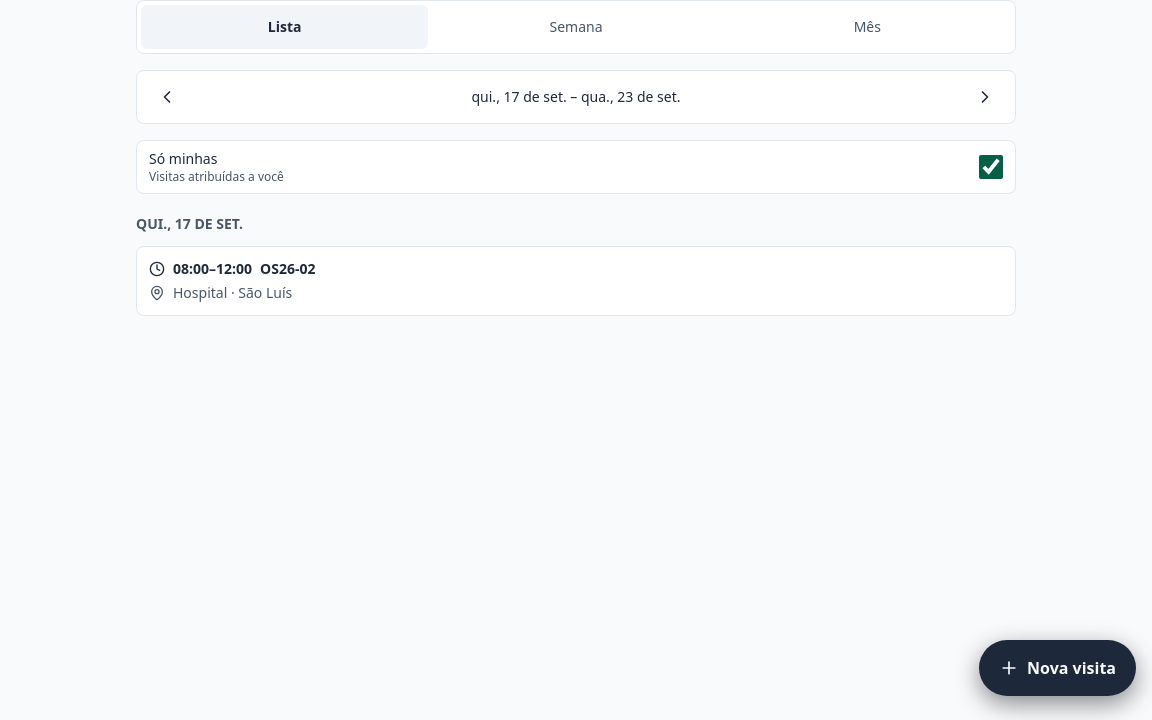
Scenario: Modo Semana › Cancelar no diálogo de confirmação não grava e mantém a visita armada
Click the button "Semana" at {"x": 576, "y": 27}, box [432,5,720,49]
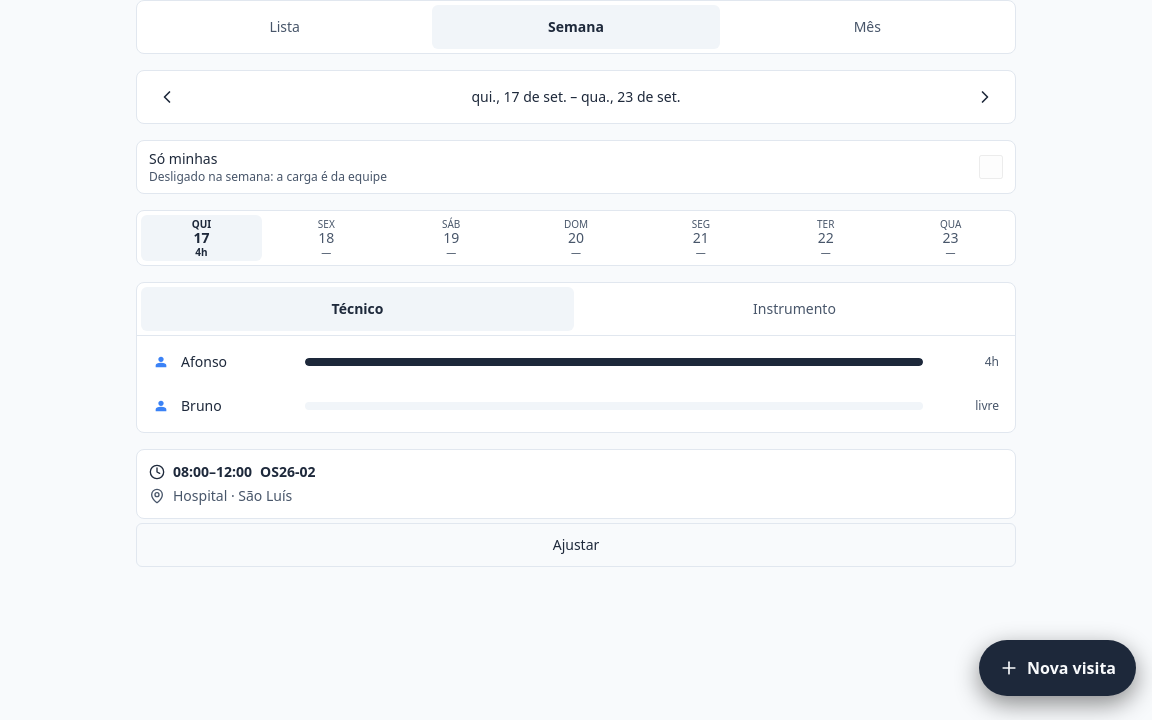
Click the button "Ajustar" at {"x": 576, "y": 544}, box [136,522,1016,566]
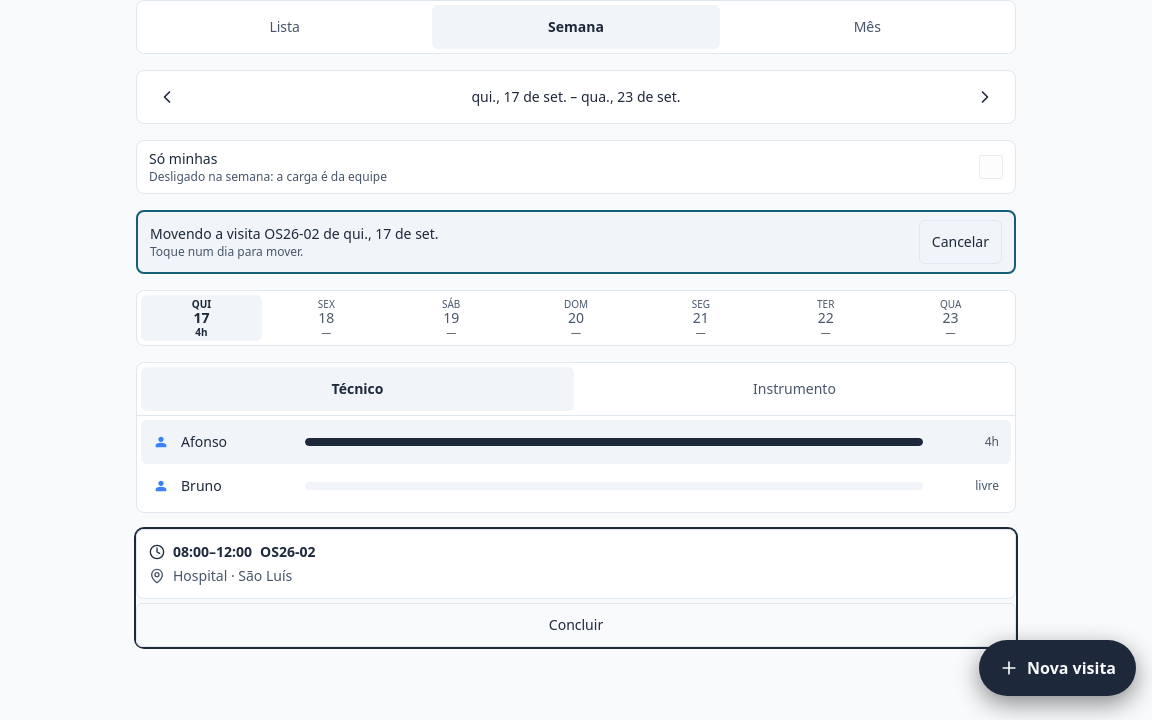
Click the button "sáb 19 —" at {"x": 451, "y": 318}, box [391,295,512,340]
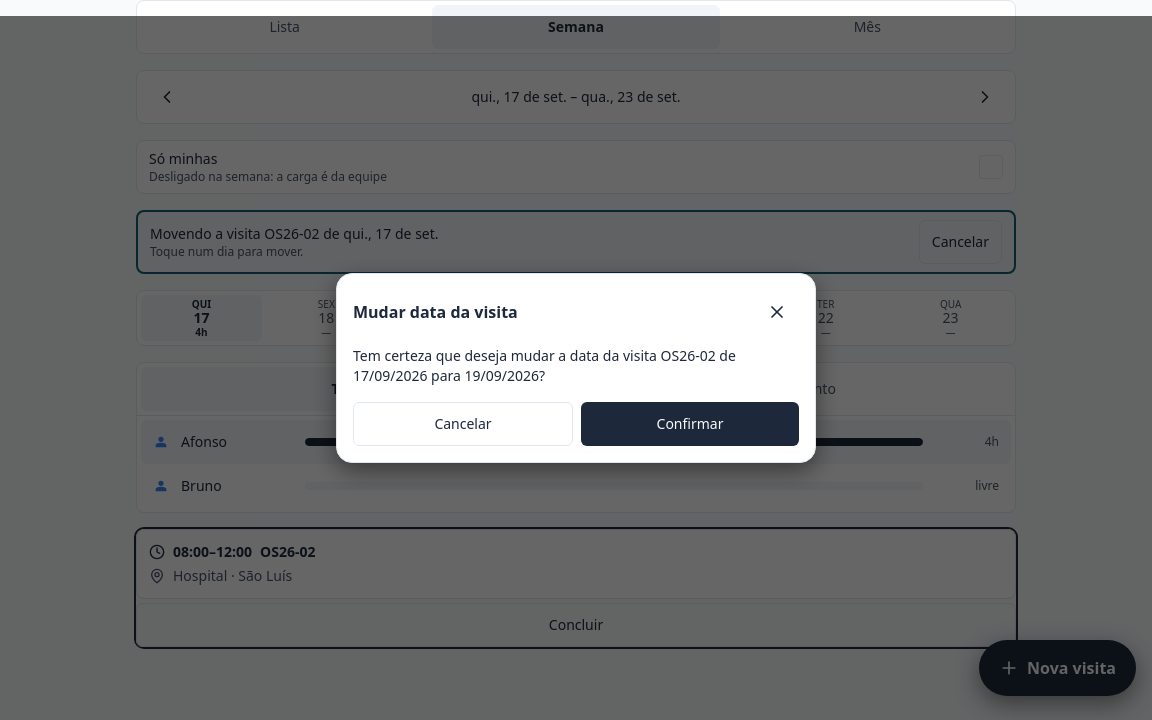
Click the button "Cancelar" at {"x": 463, "y": 424}, box [353,402,573,446]
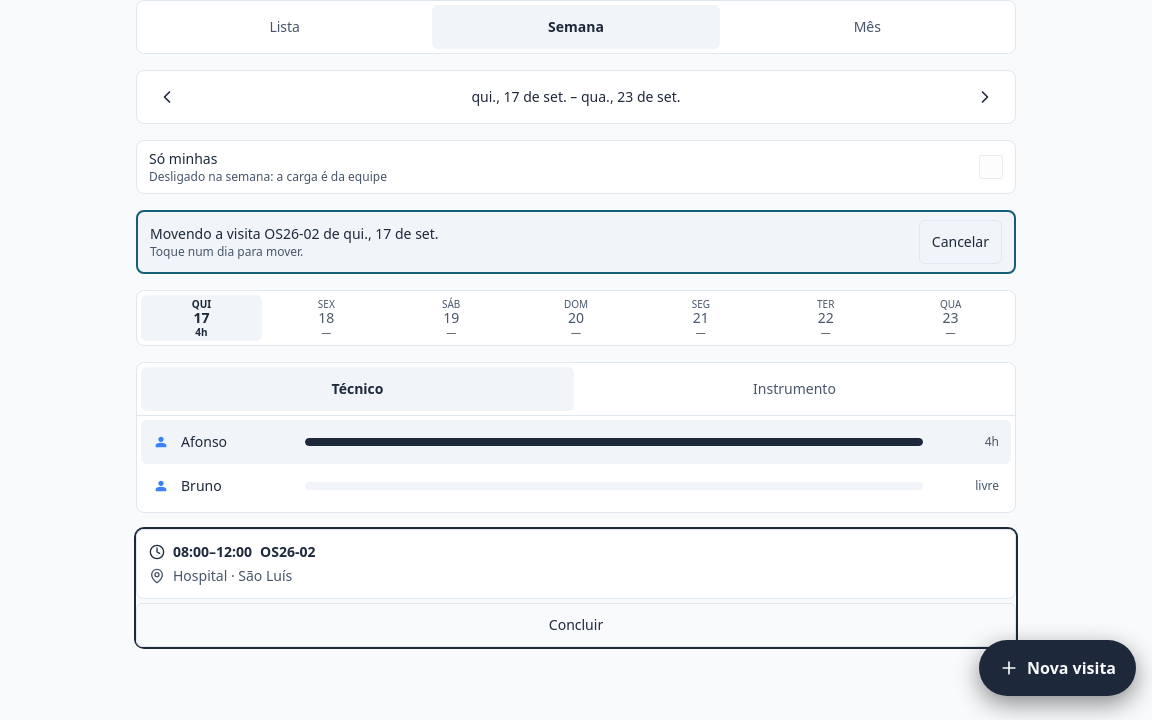
Now the button "Concluir" is shown, box [136,602,1016,646]
Now the dialog is gone
